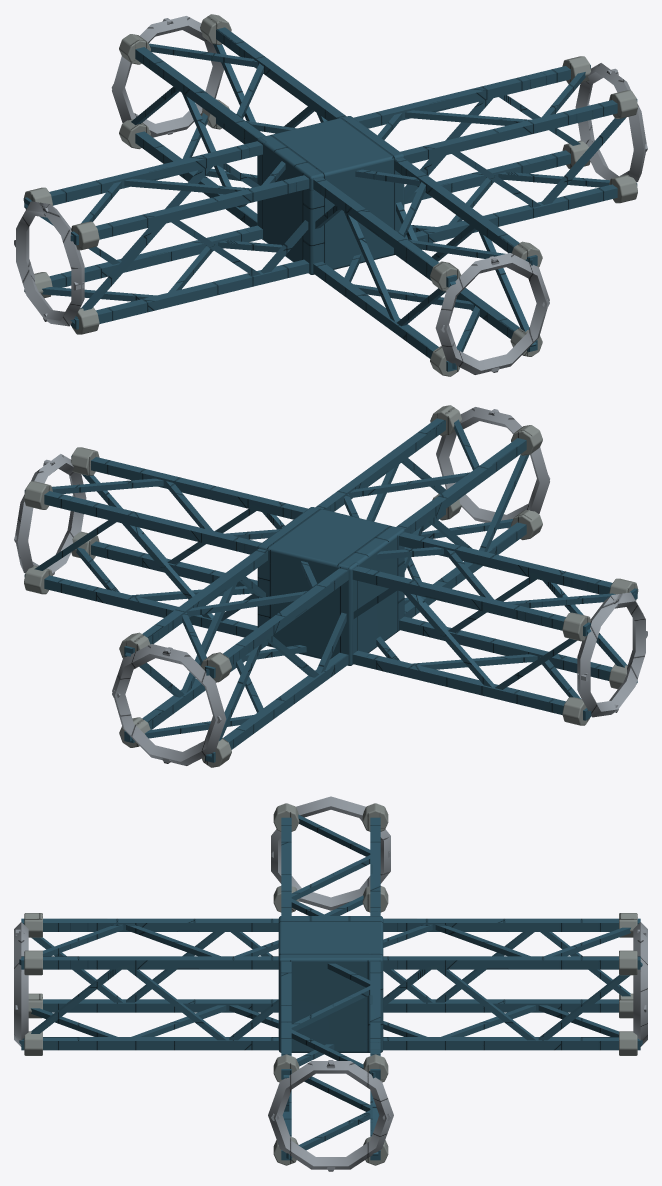
Rendered from truss_cross_lod1.glb.
The picture shows the model from 3 angles, top to bottom: view 1: azimuth 30°, elevation 25°; view 2: azimuth 150°, elevation 25°; view 3: azimuth 270°, elevation 25°; orthographic projection. The views are drawn at different scales.
Visible parts, largest first — view 1: LOD1_Armor, LOD1_BrushedMetal, LOD1_Hull; view 2: LOD1_Armor, LOD1_BrushedMetal, LOD1_Hull; view 3: LOD1_Armor, LOD1_BrushedMetal, LOD1_Hull.
Boxes of the visible parts, x1,y1,x2,y2 form: LOD1_Armor: (24, 27, 637, 371); LOD1_BrushedMetal: (14, 16, 647, 374); LOD1_Hull: (23, 14, 637, 376); LOD1_Armor: (24, 418, 637, 762); LOD1_BrushedMetal: (14, 407, 647, 765); LOD1_Hull: (24, 405, 638, 767); LOD1_Armor: (19, 814, 642, 1160); LOD1_BrushedMetal: (14, 796, 647, 1171); LOD1_Hull: (24, 803, 637, 1165).
Bounding box in the file's own units: 8.19 × 1.63 × 8.19.
3 materials, 3 textured.
